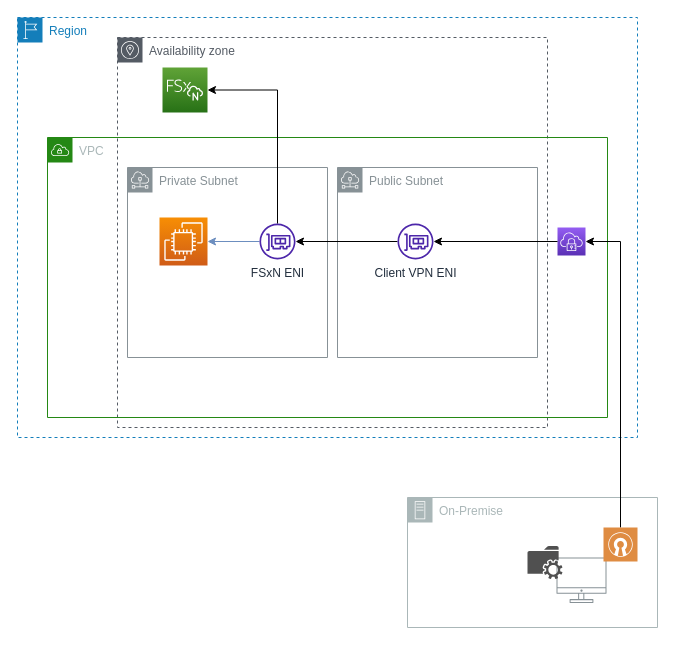
Image size: 675x645. Some labels were removed from this diagram. The shapes that lost their labels are listed below. From the top down, each one's centre as x and y in pixels, then its label:
At point (183, 241): "Active Directory".
At point (571, 241): "Client VPN Endpoint".
At point (620, 544): "Open VPN".
At point (581, 579): "desktop".
